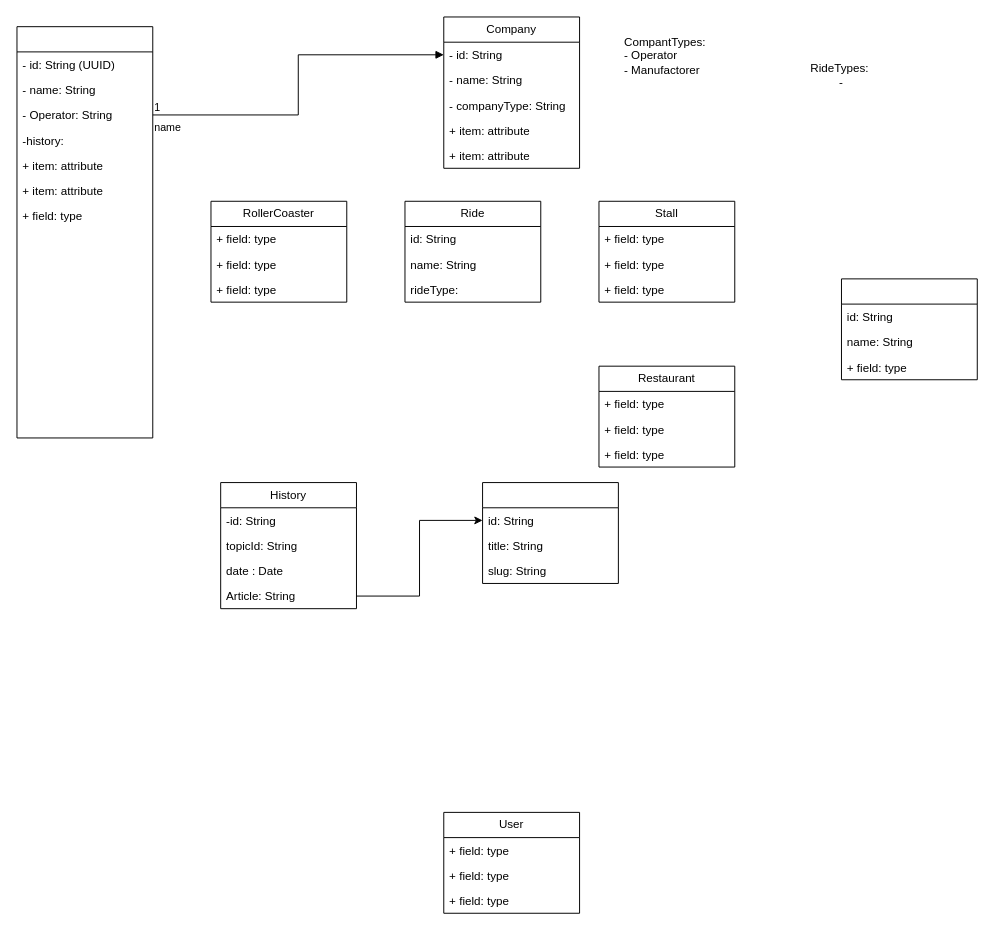
The diagram is 994 pixels wide and 933 high, and some of its shapes have lost their labels. The shapes that lost their labels are listed below. From the top down, each one's box as (x1, y1, x2, y2) in pixels, then its label:
(16, 26, 153, 438): Themepark
(841, 278, 977, 380): RideType
(482, 482, 618, 583): Article
